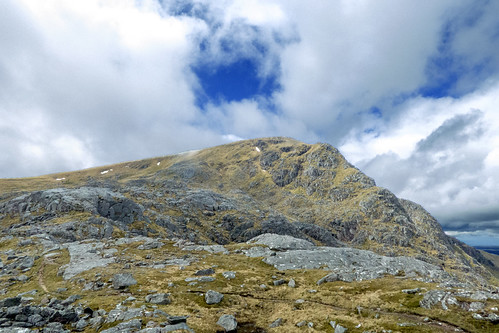mountain: (96, 119, 466, 236)
sky: (1, 1, 495, 169)
